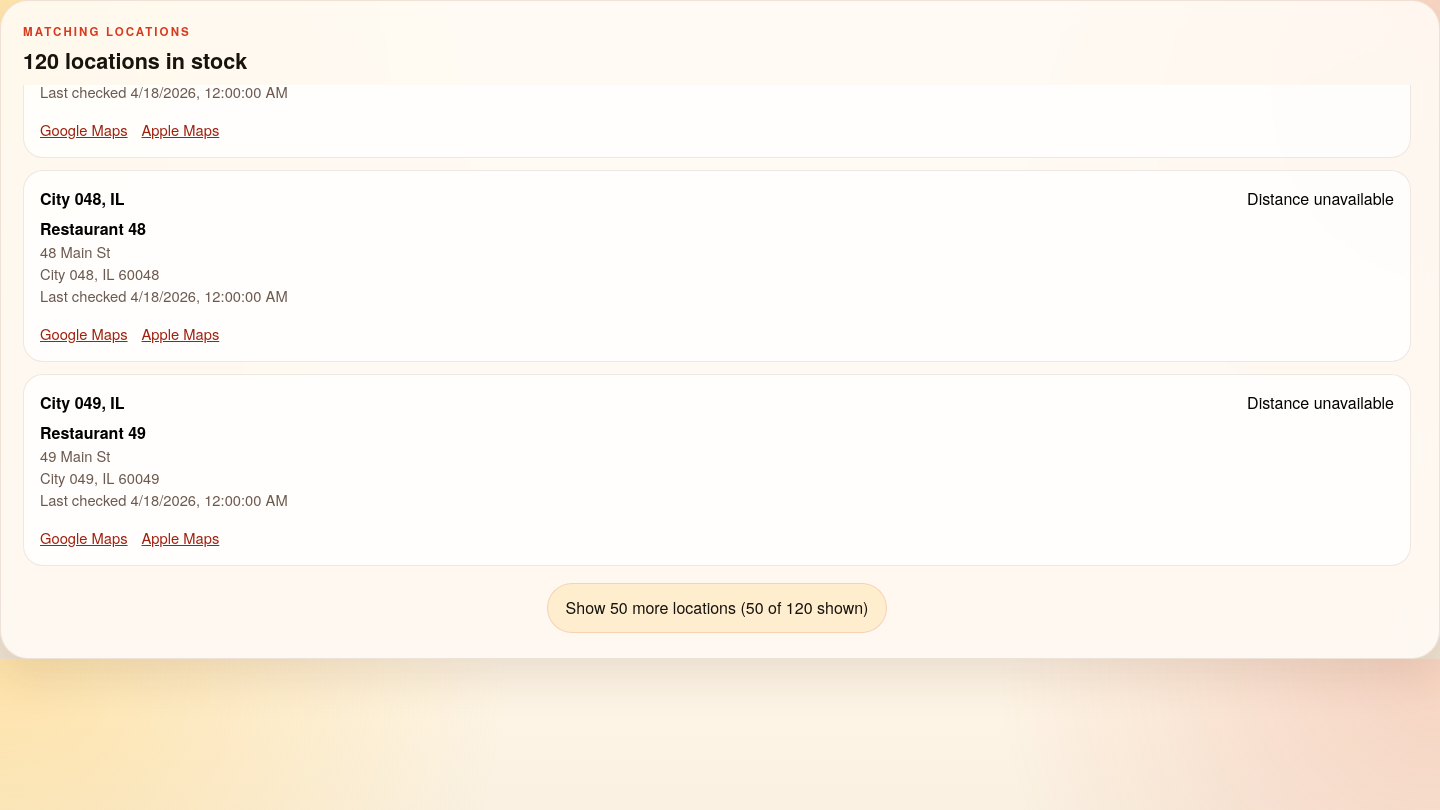
Test case: ResultsList › shows 50 locations initially and loads the next 50 on demand
(page scrolled)
Click the button "Show 50 more locations (50 of 120 shown)" at (717, 608), box [547,583,887,633]
(page scrolled)
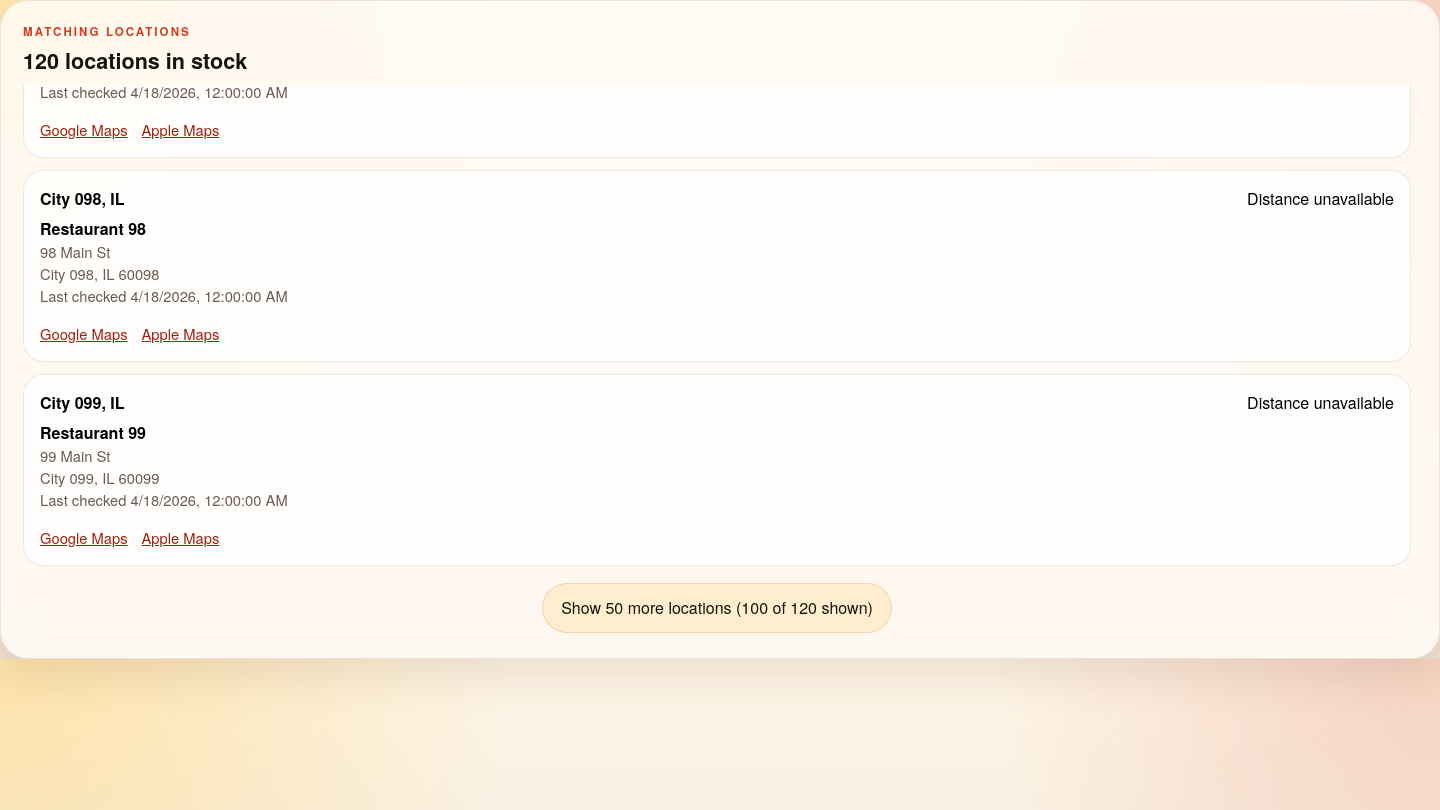
Check: the button "Show 50 more locations (100 of 120 shown)" is shown, box [542,583,892,633]
